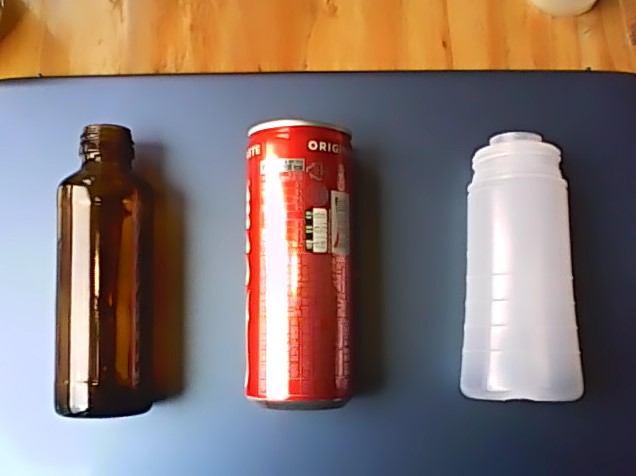Can: (239, 116, 356, 417)
Glass: (50, 121, 156, 422)
Plastic: (451, 127, 588, 406)
